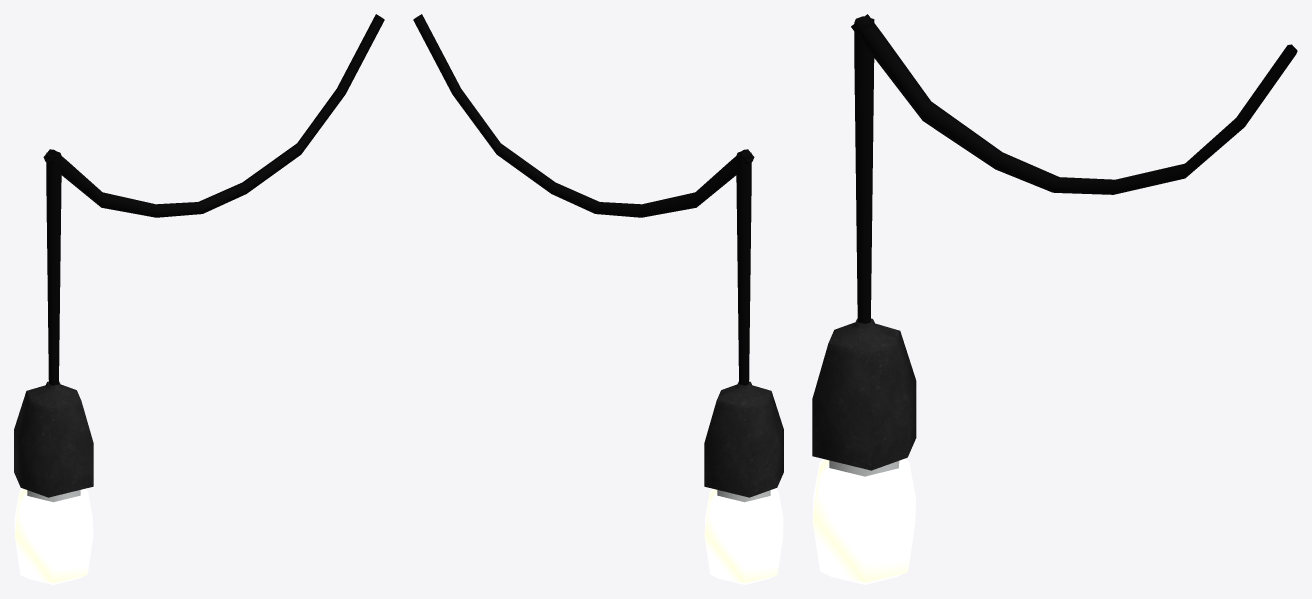
File: ceiling_lamp.glb
3 renders of one model, left to right at view 1: azimuth 30°, elevation 25°; view 2: azimuth 150°, elevation 25°; view 3: azimuth 330°, elevation 25°, orthographic. The views are drawn at different scales.
Parts seen in each view (by area): view 1: CeilingLamp; view 2: CeilingLamp; view 3: CeilingLamp.
Part boxes in pixels (left/top/right/bottom): CeilingLamp: left=14, top=14, right=384, bottom=584; CeilingLamp: left=413, top=14, right=783, bottom=584; CeilingLamp: left=812, top=14, right=1297, bottom=584.
Size of the model in its own units: 0.6572 by 0.8155 by 0.1191.
Materials: 4 (2 with a texture image).
